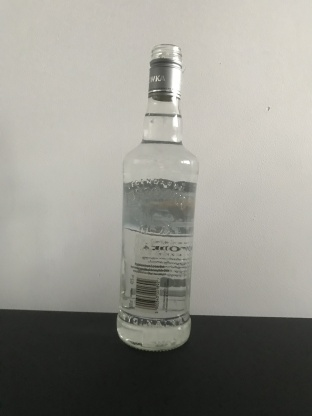nakretka: (146, 41, 183, 103)
